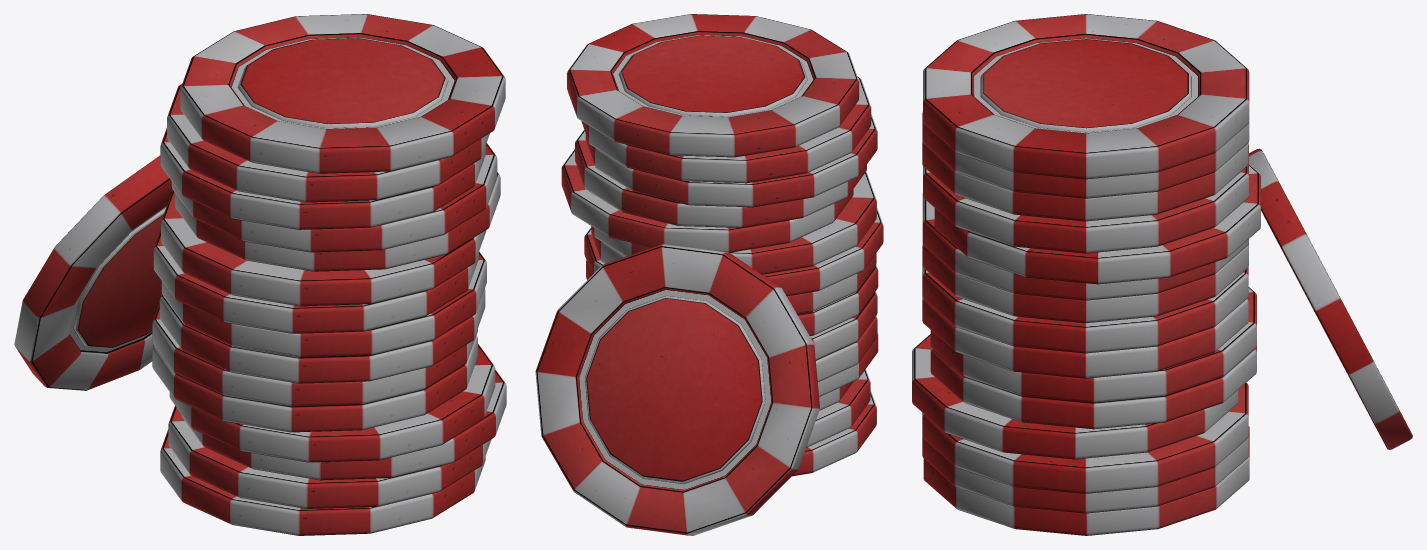
Rendered from poker_chip_stack_large.fbx.
The picture shows the model from 3 angles, left to right: view 1: azimuth 30°, elevation 25°; view 2: azimuth 150°, elevation 25°; view 3: azimuth 270°, elevation 25°; orthographic projection. The views are drawn at different scales.
Visible parts, largest first — view 1: poker_chip_stack_large; view 2: poker_chip_stack_large; view 3: poker_chip_stack_large.
Boxes of the visible parts, x1,y1,x2,y2 form: poker_chip_stack_large: (14, 14, 506, 535); poker_chip_stack_large: (535, 14, 883, 535); poker_chip_stack_large: (912, 14, 1412, 535).
Bounding box in the file's own units: 14.84 × 15.16 × 17.52.
Materials: 1 (1 with a texture image).
